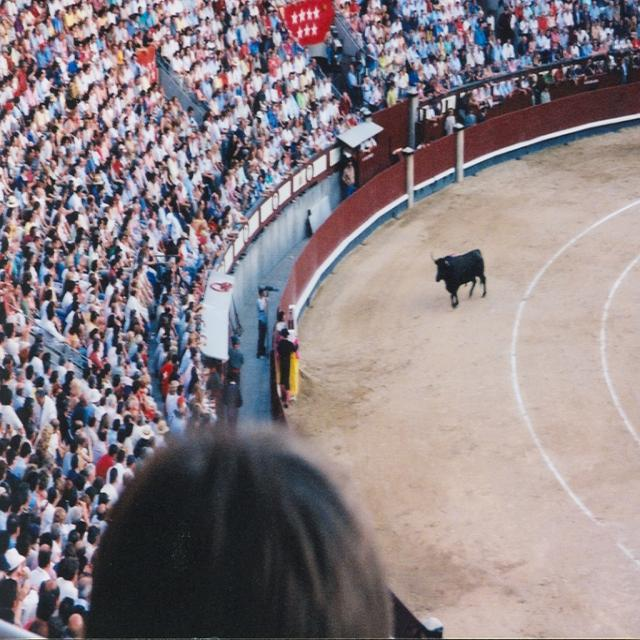Bull: (429, 250, 488, 308)
